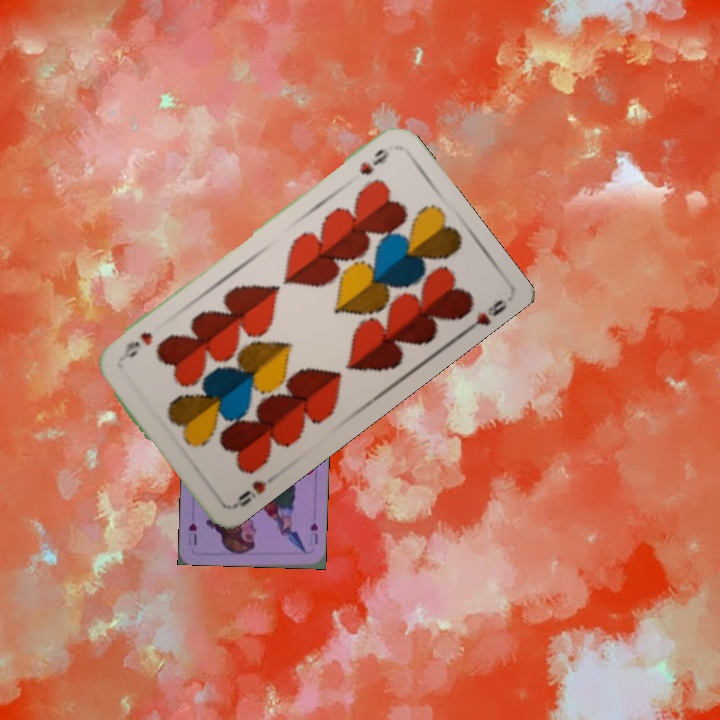H9: (228, 476, 269, 511), (355, 144, 392, 178)
HU: (306, 518, 321, 548)
